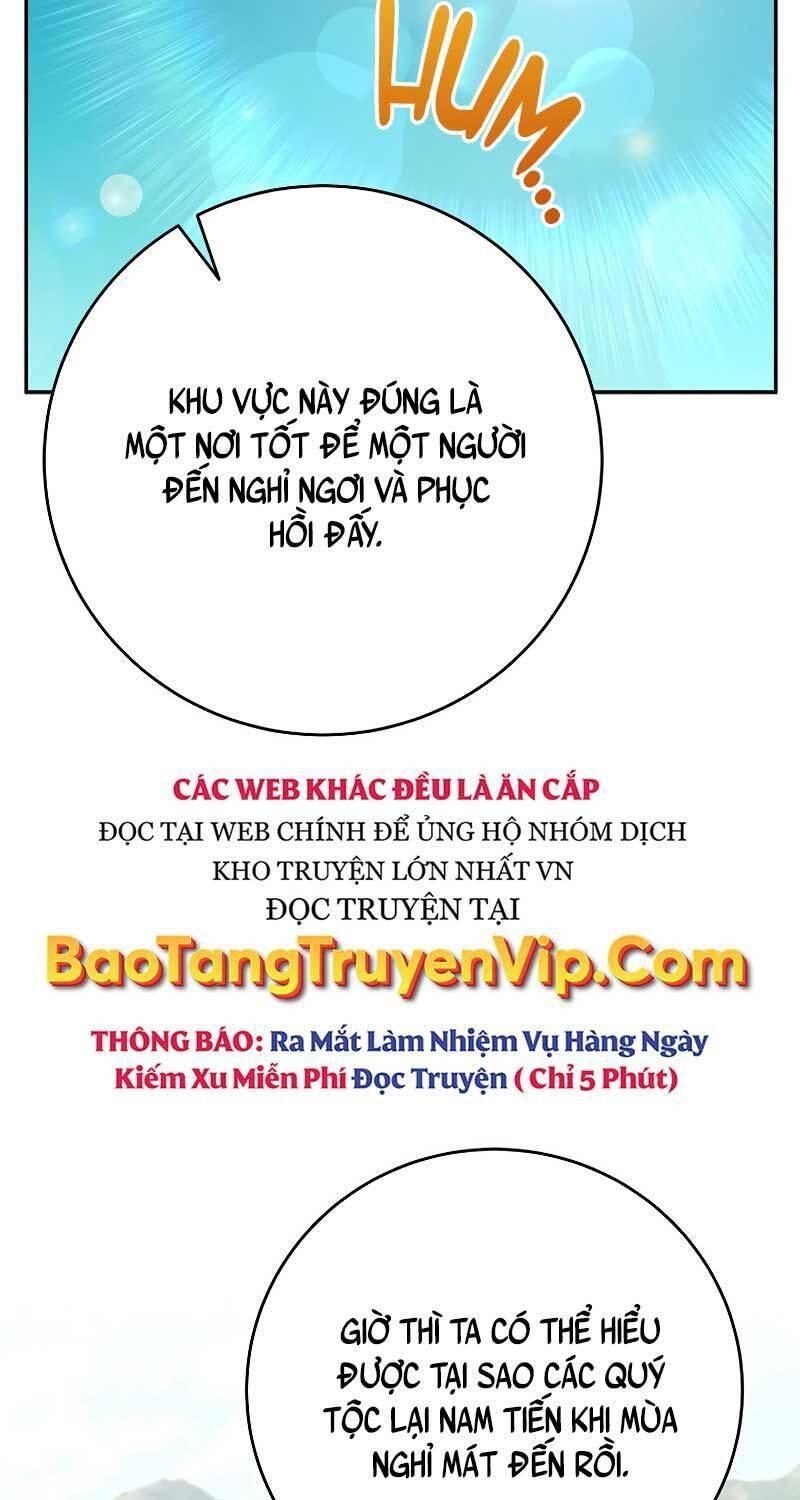quangcao: (42, 766, 752, 1100)
